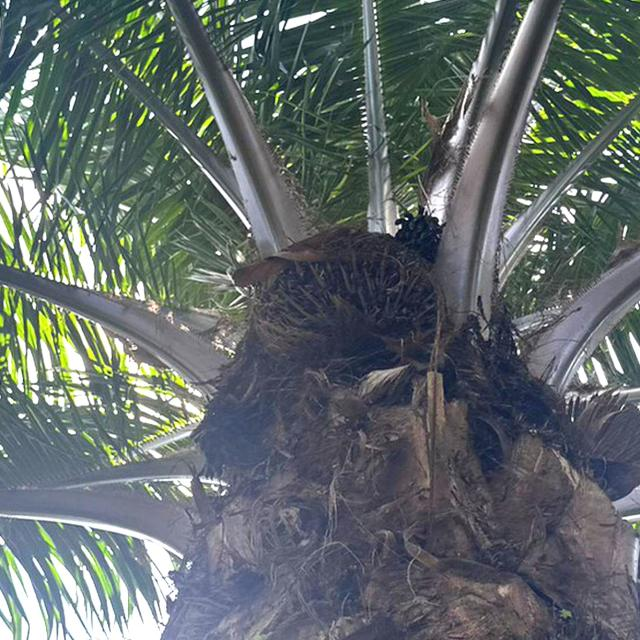ripe: (226, 219, 469, 381)
